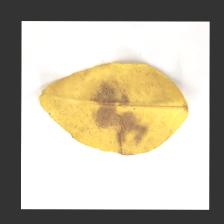black spot: (62, 74, 168, 140)
